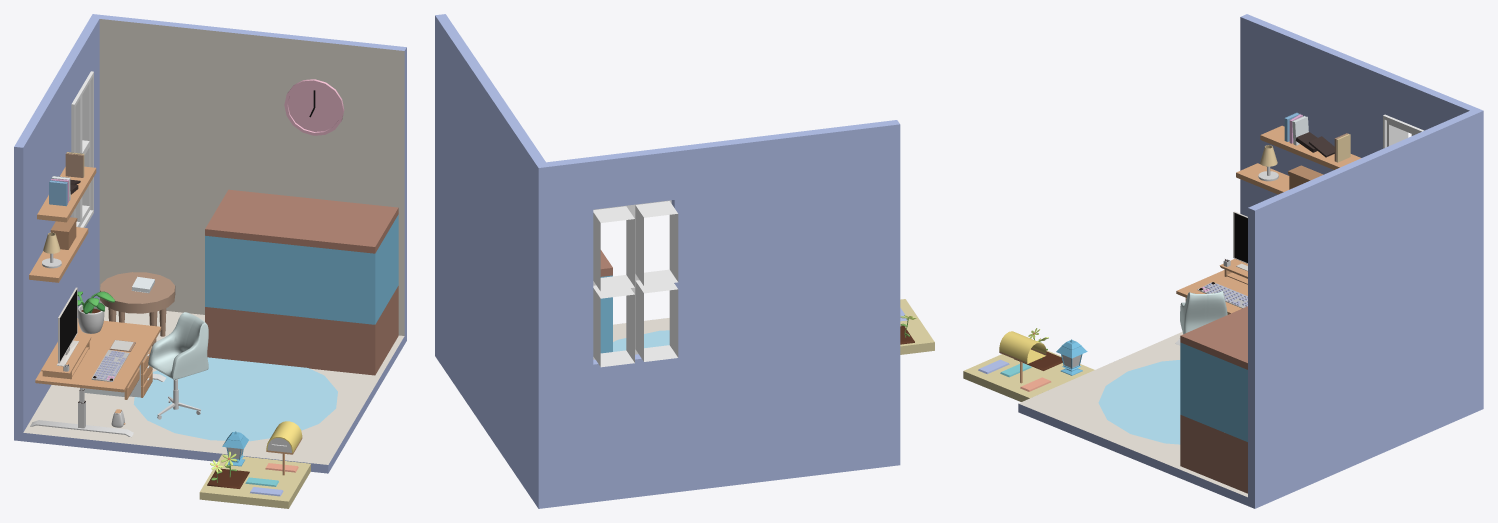
The model's file is roommodel1.glb.
3 views of the same model, side by side, from view 1: azimuth 30°, elevation 25°; view 2: azimuth 150°, elevation 25°; view 3: azimuth 270°, elevation 25° (orthographic). The views are drawn at different scales.
Visible parts, largest first — view 1: Cube.003, tankframe, tank, Circle.006, table Top, Cylinder.003, Cube.012, Cylinder.009, Plane, Cylinder.007, Cube.074, Cube.075 (+13 smaller); view 2: Cube.003, Plane, Cube.012, tank, Circle.006; view 3: Cube.003, tankframe, Circle.006, tank, Cube.012, Cylinder.003, Cube.075, Cylinder.010, table Top, Cube.074, Plane, screen.
Part boxes in pixels (x1,y1,x2,y2): Cube.003: (14,14,406,473); tankframe: (205,189,398,375); tank: (205,214,398,324); Circle.006: (133,357,337,441); table Top: (35,318,161,392); Cylinder.003: (148,312,208,419); Cube.012: (199,454,310,508); Cylinder.009: (284,79,344,135); Plane: (71,71,93,227); Cylinder.007: (100,272,175,313); Cube.074: (29,227,88,282); Cube.075: (37,166,96,222); Cube.003: (435,14,900,508); Plane: (593,200,678,367); Cube.012: (900,299,934,354); tank: (600,275,612,353); Circle.006: (613,330,669,351); Cube.003: (1018,14,1483,508); tankframe: (1180,306,1247,493); Circle.006: (1098,360,1180,444); tank: (1180,342,1247,441); Cube.012: (963,350,1094,401); Cylinder.003: (1180,290,1227,334); Cube.075: (1260,125,1361,169); Cylinder.010: (999,331,1046,363); table Top: (1176,270,1247,314); Cube.074: (1236,163,1289,194); Plane: (1383,114,1423,148); screen: (1234,213,1247,262).
Size of the model in its own units: 24 by 16.97 by 26.83.
